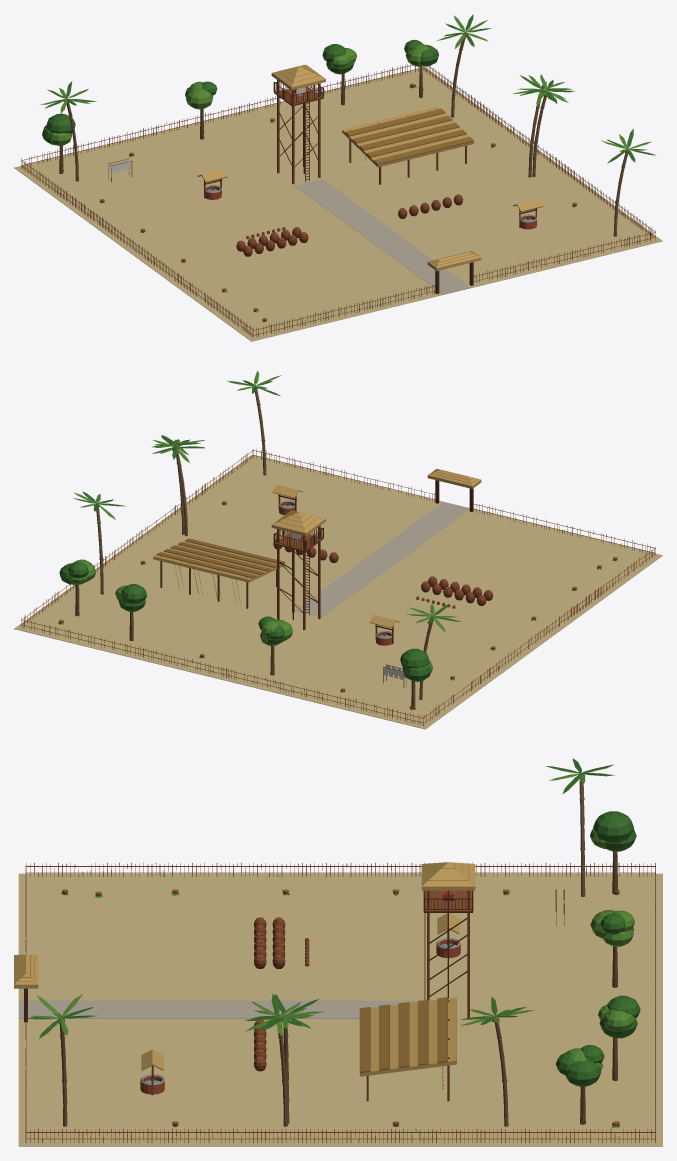
The model's file is fire.glb.
3 views of the same model, one above another, from view 1: azimuth 30°, elevation 25°; view 2: azimuth 150°, elevation 25°; view 3: azimuth 270°, elevation 25° (orthographic). The views are drawn at different scales.
Visible parts, largest first — view 1: body; view 2: body; view 3: body.
Boxes of the visible parts, left/top/right/bottom form: body: left=14, top=14, right=662, bottom=341; body: left=14, top=371, right=662, bottom=729; body: left=14, top=758, right=662, bottom=1146.
Bounding box in the file's own units: 49.1 × 12.5 × 48.25.
